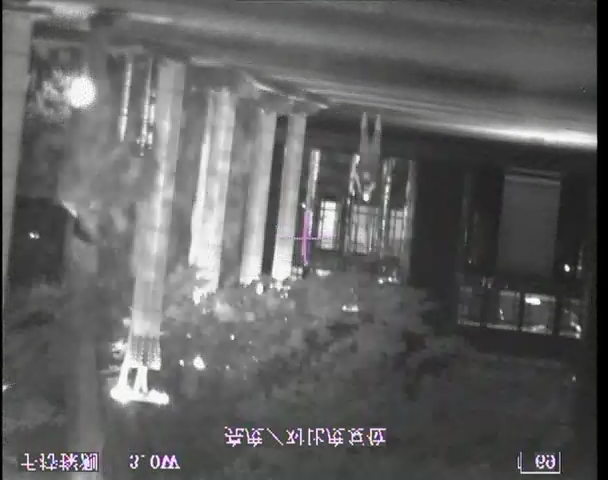my: (362, 192, 371, 202)
